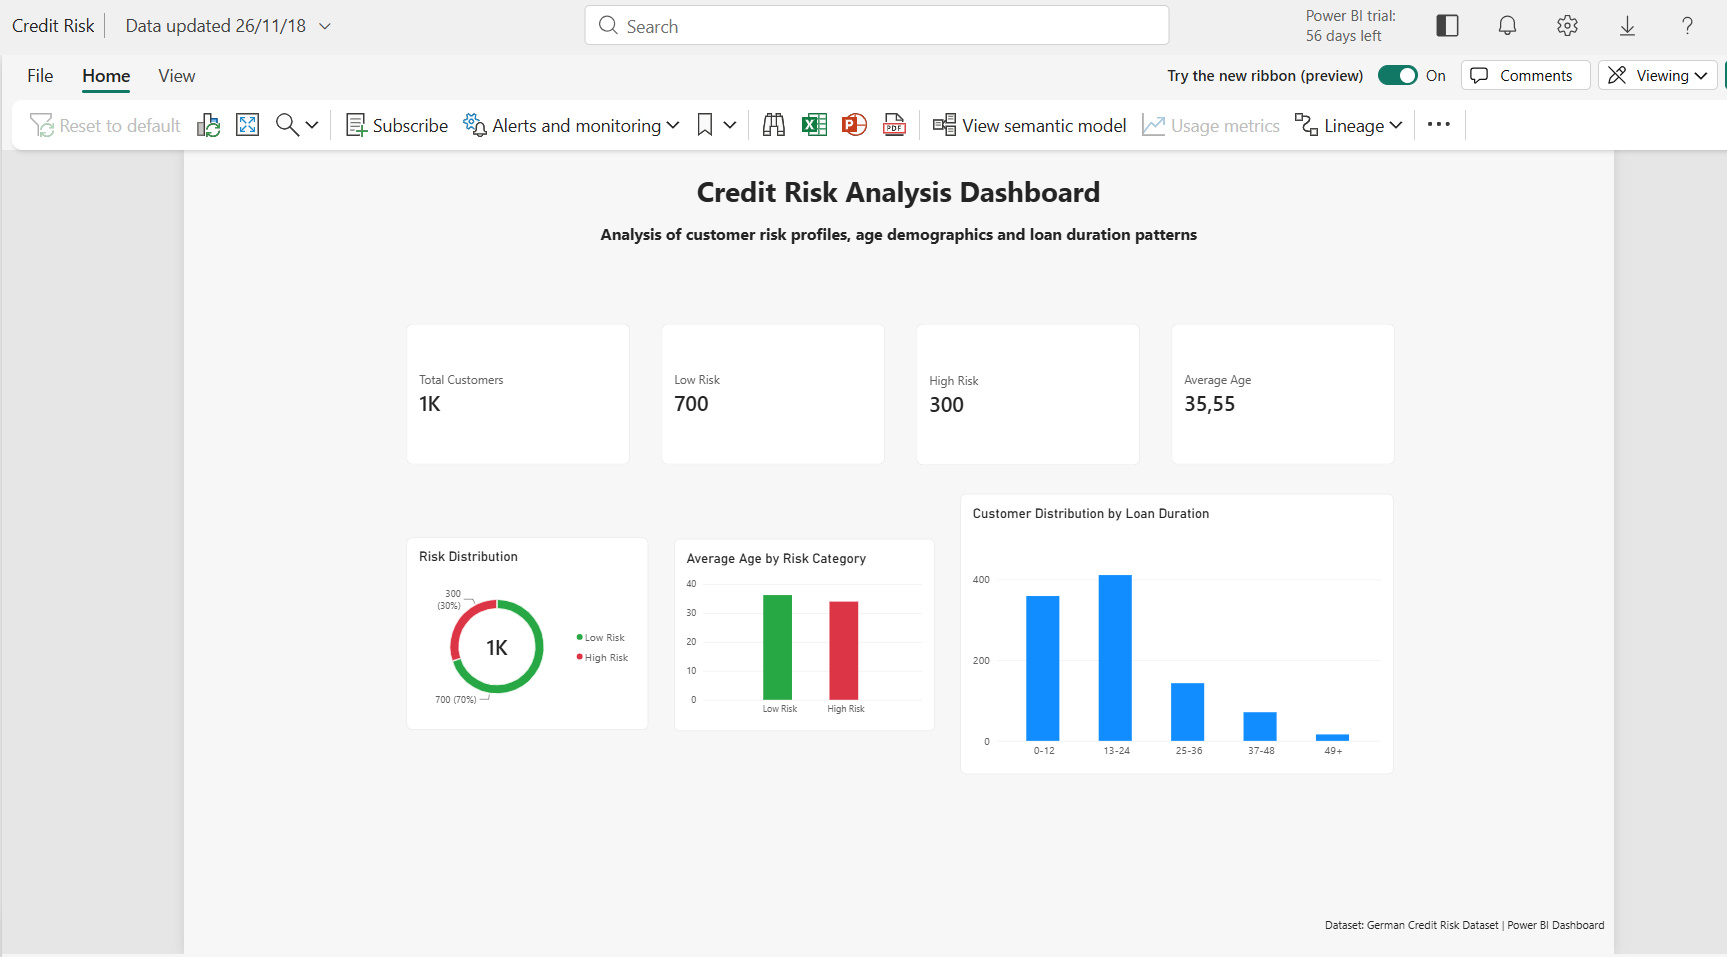

What the dashboard file says about the page in this screenshot:
{"tool":"powerbi","page":{"name":"Page 1","canvas":[1920,1080],"ordinal":0},"visuals":[{"type":"donutChart","title":"Risk Distribution","fields":{"Category":["GermanCredit.Risk Label"],"Y":["CountNonNull(GermanCredit.Risk)"]},"box":[299,520.5,324.4,258.1],"z":0},{"type":"clusteredColumnChart","title":"Average Age by Risk Category","fields":{"Category":["GermanCredit.Risk Label"],"Y":["Avg(GermanCredit.Age)"]},"box":[657.6,521.5,350.6,258.1],"z":1000},{"type":"cardVisual","fields":{"Data":["GermanCredit.Total Customers"]},"box":[299.3,233.7,300.8,189.1],"z":2000},{"type":"cardVisual","fields":{"Data":["GermanCredit.Low Risk"]},"box":[641.6,233.7,300.8,189.1],"z":3000},{"type":"cardVisual","fields":{"Data":["GermanCredit.High Risk"]},"box":[983.8,232.8,300.8,190.9],"z":4000},{"type":"cardVisual","fields":{"Data":["GermanCredit.Average Age"]},"box":[1326,233.7,300.8,189.1],"z":5000},{"type":"clusteredColumnChart","title":"Customer Distribution by Loan Duration","fields":{"Category":["GermanCredit.Duration Band"],"Y":["CountNonNull(GermanCredit.Duration)"]},"box":[1043,462.2,582.6,376.7],"z":6000},{"type":"textbox","box":[0,30,1920.4,150],"z":6001},{"type":"textbox","box":[0,1030.8,1920.4,48.8],"z":6002}]}

Visuals, with their boxes on the page's 1920x1080 design canvas (x1, y1, x2, y2). These are canvas units, not pixel positions in the 1727x957 screenshot, which may show the page scaled, cropped or inside an application window:
"Risk Distribution" donutChart: region(299, 520, 623, 779)
"Average Age by Risk Category" clusteredColumnChart: region(658, 522, 1008, 780)
cardVisual - GermanCredit.Total Customers: region(299, 234, 600, 423)
cardVisual - GermanCredit.Low Risk: region(642, 234, 942, 423)
cardVisual - GermanCredit.High Risk: region(984, 233, 1285, 424)
cardVisual - GermanCredit.Average Age: region(1326, 234, 1627, 423)
"Customer Distribution by Loan Duration" clusteredColumnChart: region(1043, 462, 1626, 839)
textbox: region(0, 30, 1920, 180)
textbox: region(0, 1031, 1920, 1080)
